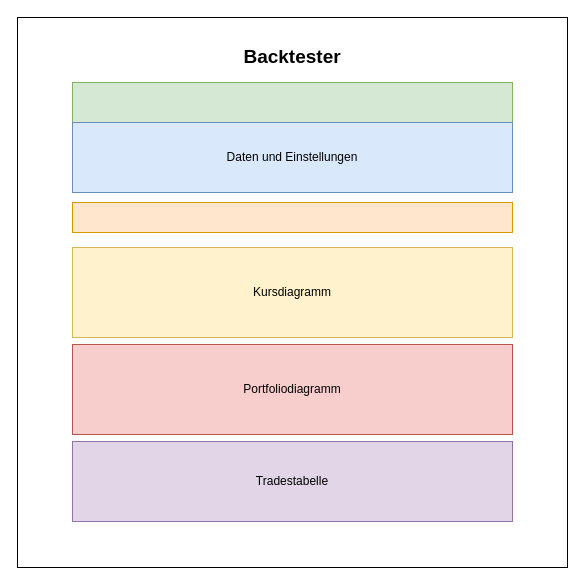
This 585x585 diagram has some shape labels left out. Here are the shapes that lost their labels. From the top down, the box of each, then its label:
(72, 82, 512, 122): Kursdaten herunterladen
(72, 202, 512, 232): Kennzahlen
